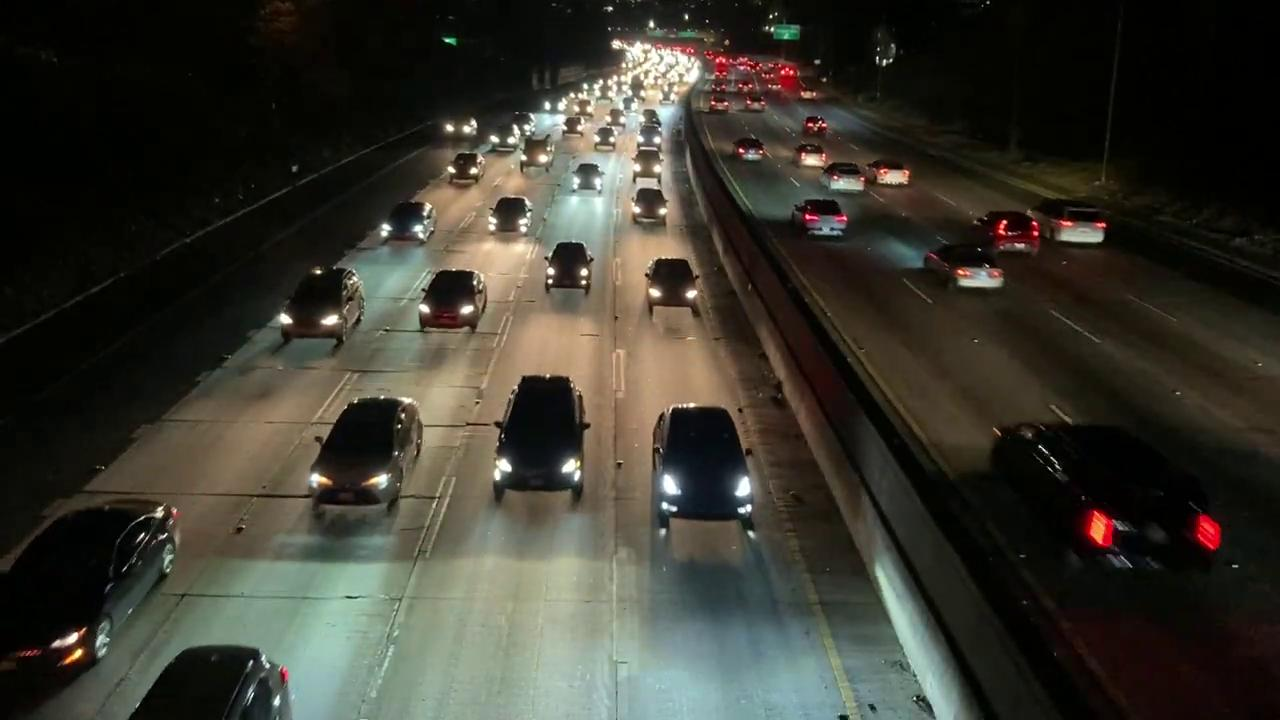car: (992, 396, 1236, 598), (4, 486, 198, 676), (292, 386, 434, 518), (640, 394, 764, 542), (490, 374, 596, 502), (118, 644, 288, 718), (283, 267, 364, 340), (1022, 193, 1120, 249), (418, 270, 488, 331), (379, 195, 454, 249), (642, 254, 702, 316), (927, 244, 1005, 289), (540, 240, 596, 302), (486, 192, 547, 243), (977, 211, 1044, 255), (794, 200, 848, 239), (623, 186, 676, 222), (864, 155, 908, 195), (513, 137, 555, 175), (448, 147, 490, 184), (622, 147, 668, 180), (726, 134, 768, 168), (782, 142, 836, 168), (565, 162, 607, 193), (821, 163, 864, 193), (797, 112, 832, 138), (590, 123, 619, 153), (743, 90, 772, 112), (708, 92, 731, 118)
